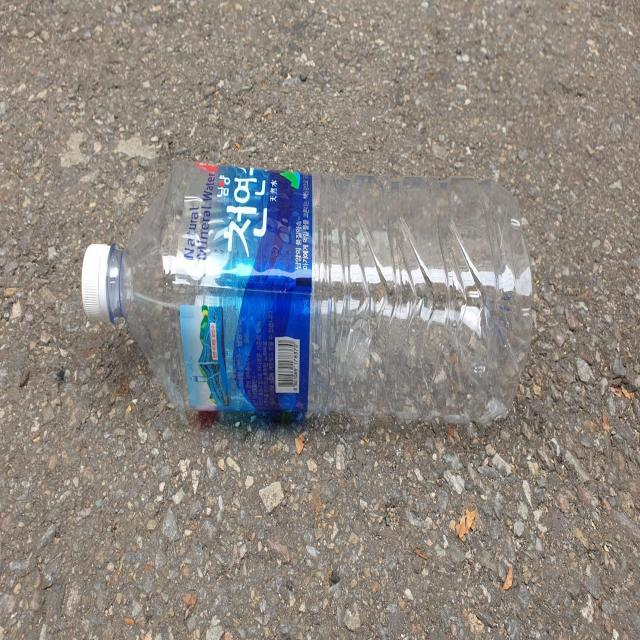plastic_bottle: (81, 158, 539, 433)
